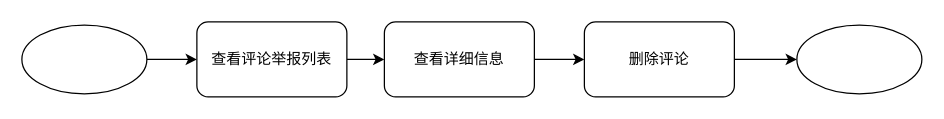
This 944x119 diagram has some shape labels left out. The box of each missing label's shape, as (x1, y1, x2, y2) in pixels:
开始: (21, 24, 147, 94)
结束: (796, 24, 922, 94)
